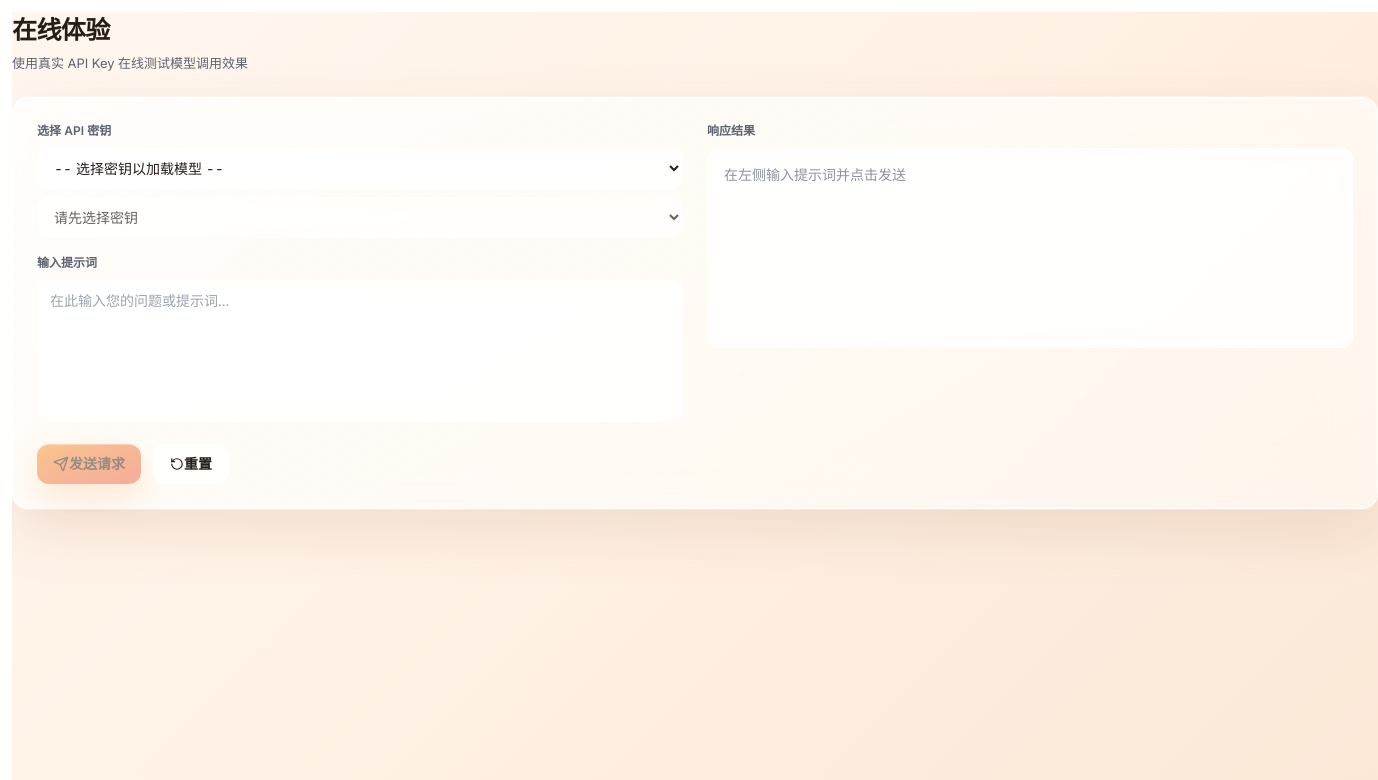
Playground › displays response and usage after successful chat
Select "Real Key" in the dropdown labelled "选择 API 密钥" at (360, 168), box [37,148,683,189]
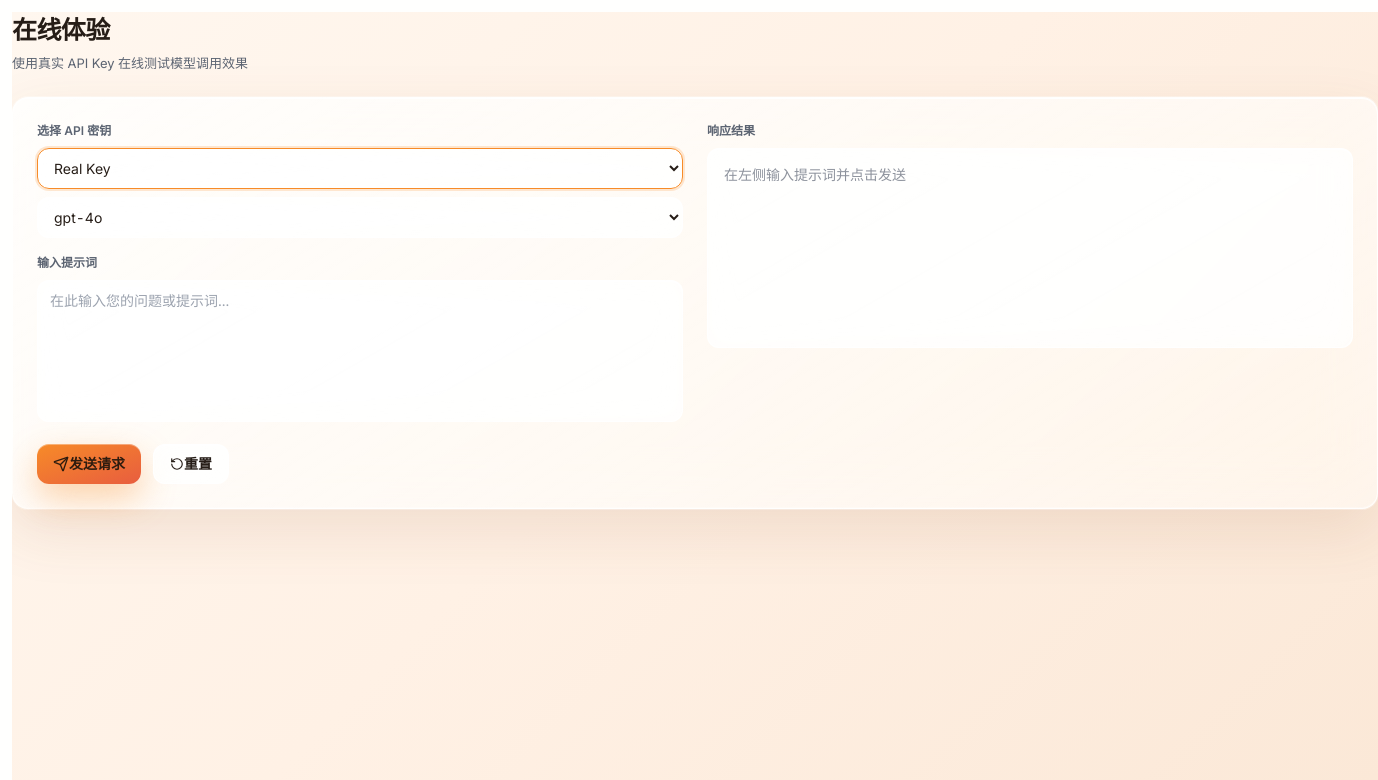
Type and send
Type "Hello AI" into the text box with placeholder "在此输入您的问题或提示词..." at (360, 351), box [37,280,683,422]
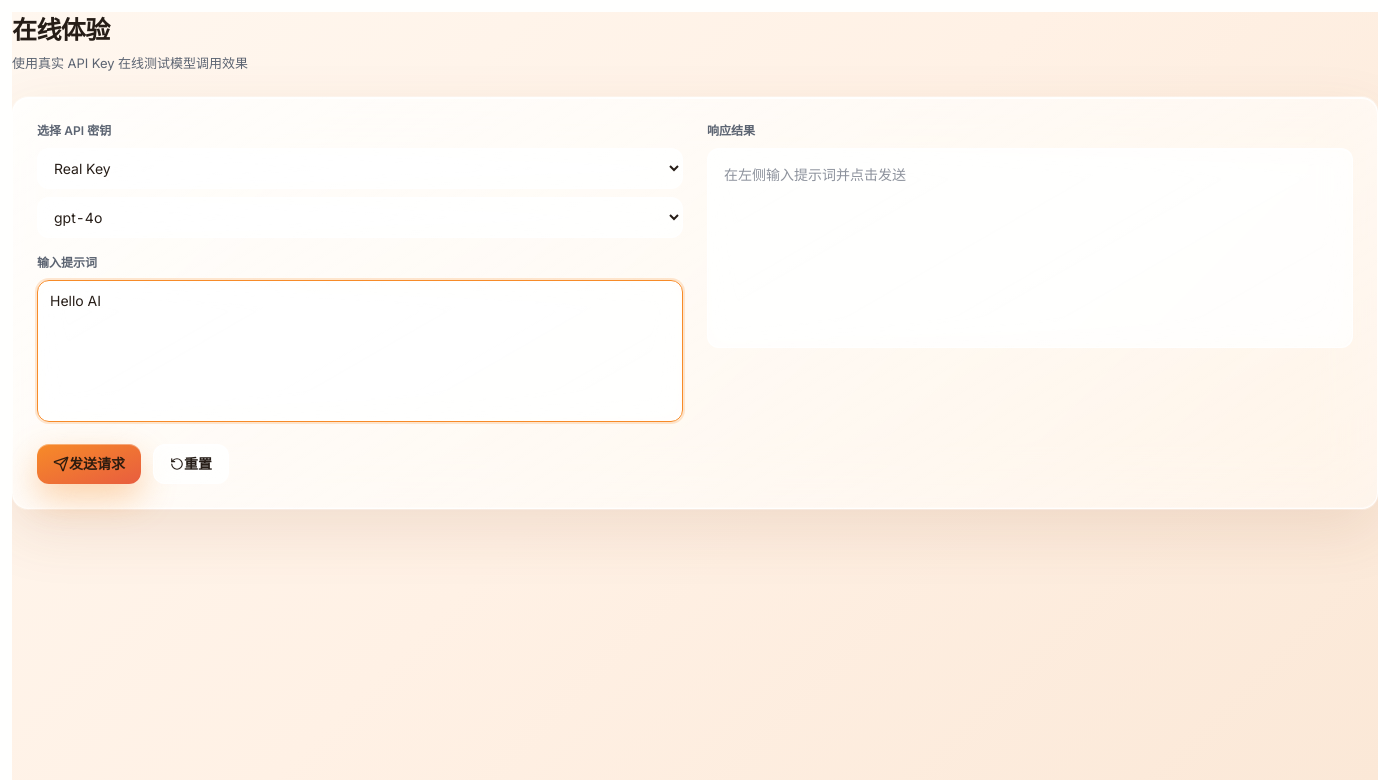
Click the button "发送请求" at (89, 464), box [37,444,141,484]
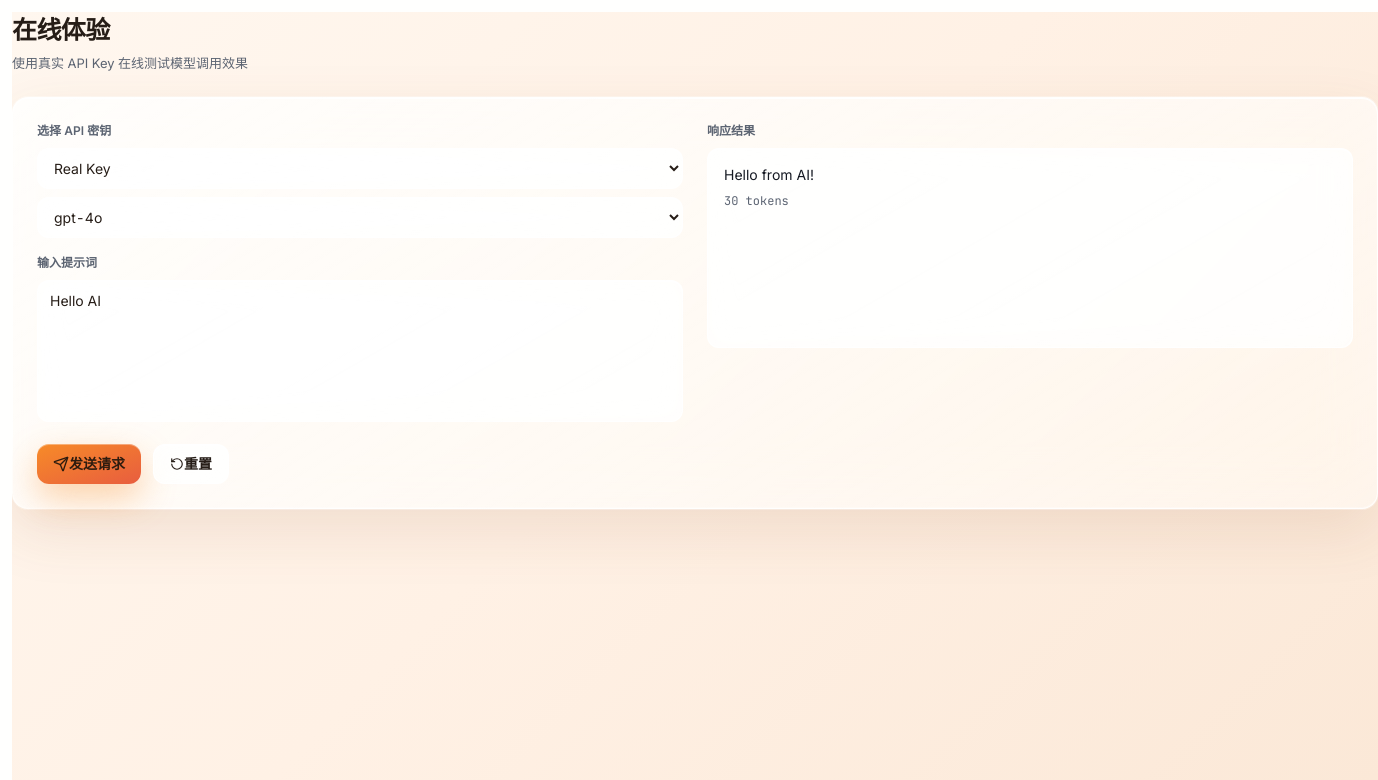
Expected: the text "Hello from AI!" is shown, [724,166,814,183]
Expected: the text "30 tokens" is shown, [724,193,789,209]
